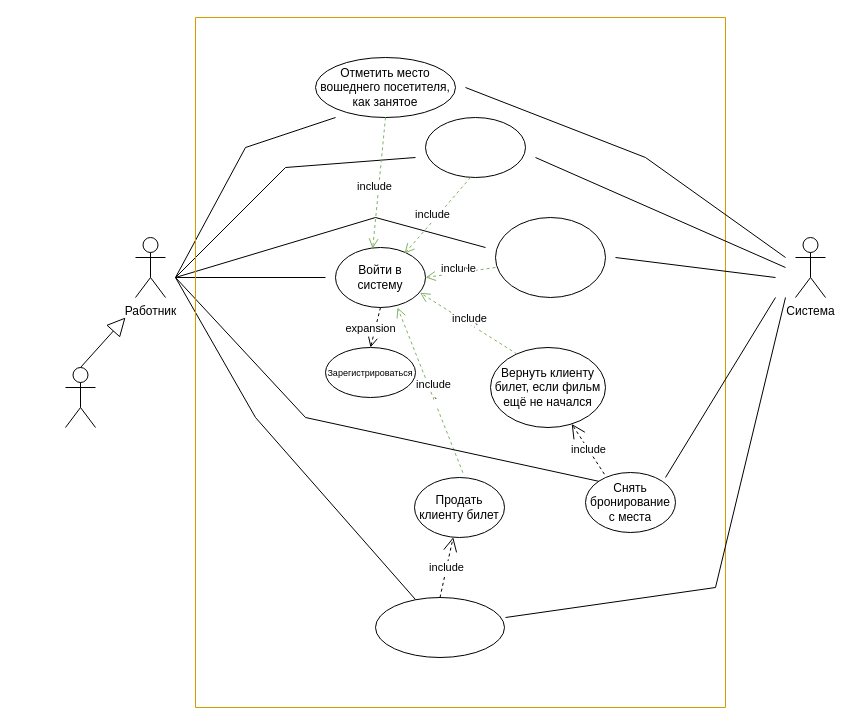
Image size: 852x726. Some labels were removed from this diagram. Each missing label, with the centre of its shape:
Добавить новый фильм: (x=475, y=147)
Отметить место, как забронированное: (x=439, y=627)
Отредактировать данные о фильме: (x=550, y=257)
Сотрудник-контроллёр: (x=80, y=397)
